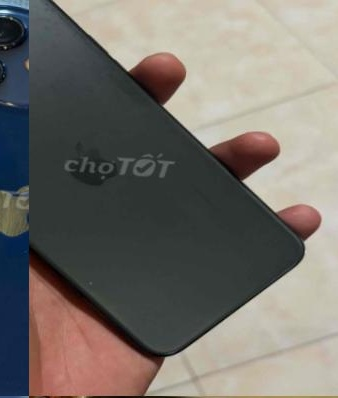scratch: (29, 0, 165, 103), (166, 175, 255, 241), (76, 265, 114, 296)
